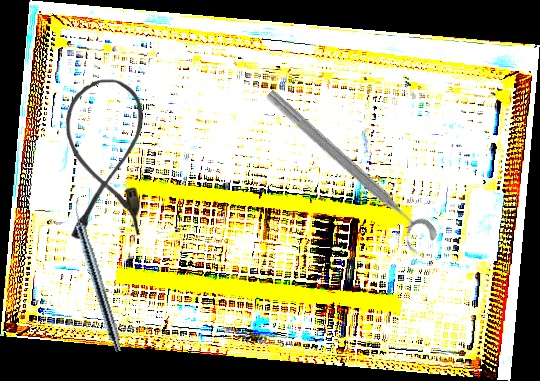Cannula: (66, 79, 143, 239)
Fixation Ring: (253, 84, 441, 259)
Handpiece: (66, 196, 127, 354)
